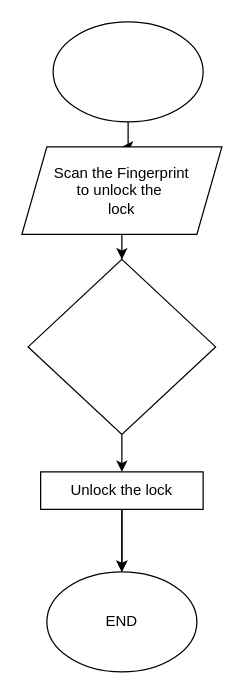
Some shapes in this 244 by 694 pixel diagram are drawn without their labels. The shapes that lost their labels are listed below. From the top down, each one's box as (x1, y1, x2, y2) in pixels, then its label:
(52, 21, 203, 122): Start
(27, 258, 216, 434): if scanned fingerprint == stored fingerprint
